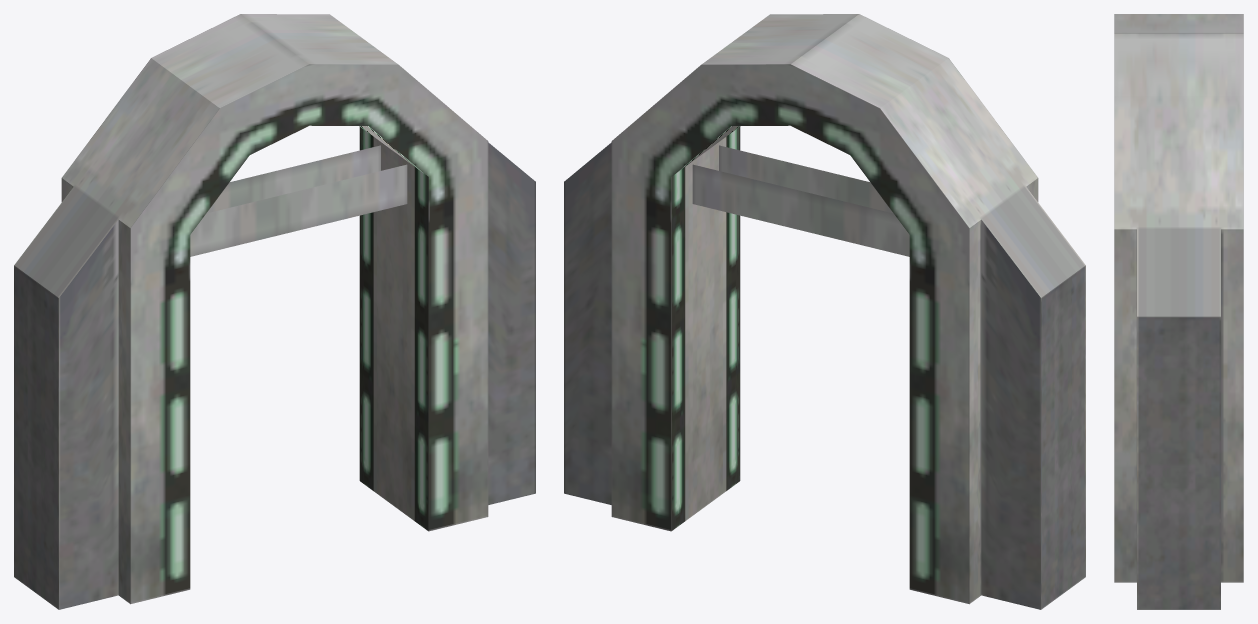
File: thm_corl_imprv_gate_sm_s01_l2.fbx
The picture shows the model from 3 angles, left to right: view 1: azimuth 30°, elevation 25°; view 2: azimuth 150°, elevation 25°; view 3: azimuth 270°, elevation 25°; orthographic projection. The views are drawn at different scales.
Visible parts, largest first — view 1: mesh_node; view 2: mesh_node; view 3: mesh_node.
Boxes of the visible parts, box(x1,y1,x2,y2) form: mesh_node: box(14, 14, 535, 609); mesh_node: box(564, 14, 1085, 609); mesh_node: box(1114, 14, 1243, 609).
Bounding box in the file's own units: 8 × 7.95 × 2.
1 material, 1 textured.
